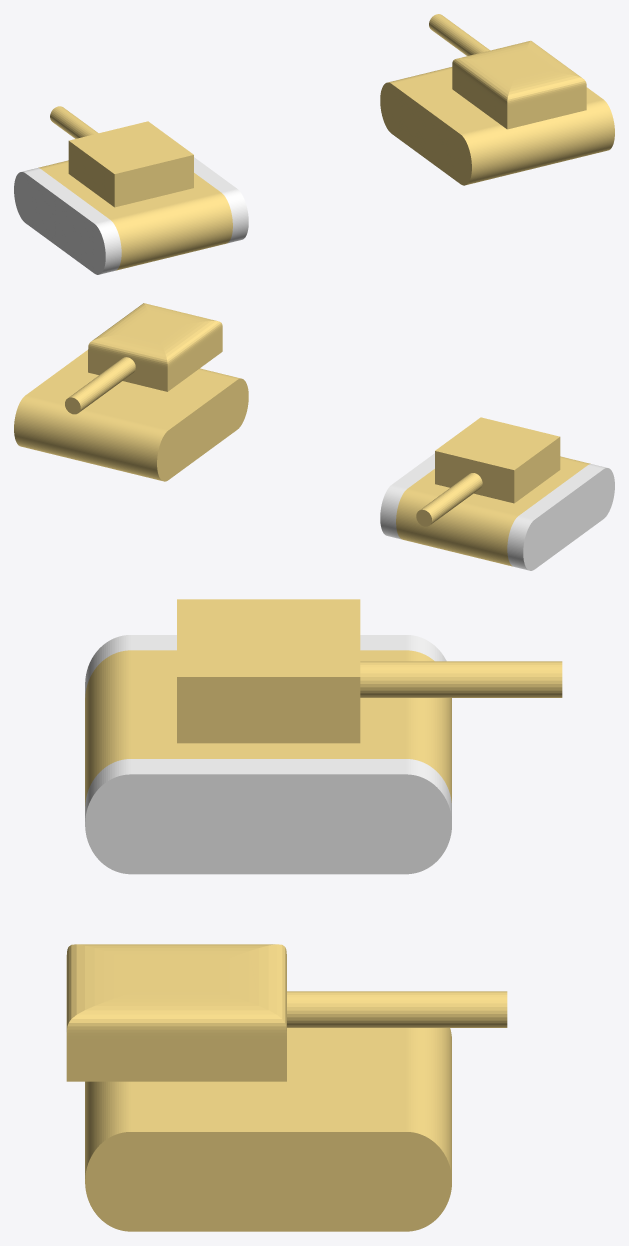
3 renders of one model, top to bottom at view 1: azimuth 30°, elevation 25°; view 2: azimuth 150°, elevation 25°; view 3: azimuth 270°, elevation 25°, orthographic. The views are drawn at different scales.
Visible parts, largest first — view 1: 立方体.002, bottom, top, 立方体.003; view 2: bottom, 立方体.002, top, 立方体.003; view 3: bottom, 立方体.002, top, 立方体.003.
Boxes of the visible parts, x1,y1,x2,y2 form: 立方体.002: (14, 157, 248, 274); bottom: (380, 67, 614, 185); top: (429, 14, 586, 129); 立方体.003: (50, 106, 193, 207); bottom: (14, 350, 248, 481); 立方体.002: (380, 453, 614, 570); top: (65, 303, 222, 414); 立方体.003: (416, 417, 560, 526); bottom: (85, 1028, 451, 1231); 立方体.002: (85, 635, 451, 874); top: (66, 944, 507, 1081); 立方体.003: (177, 599, 562, 743).
Bounding box in the file's own units: 641 × 111 × 270.
